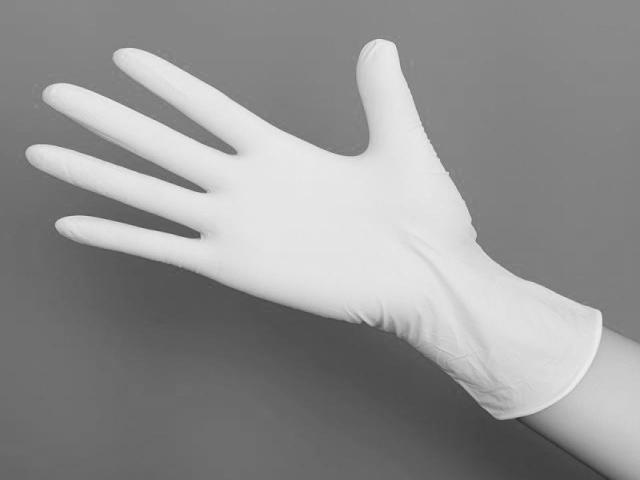gloved: (24, 37, 494, 332)
